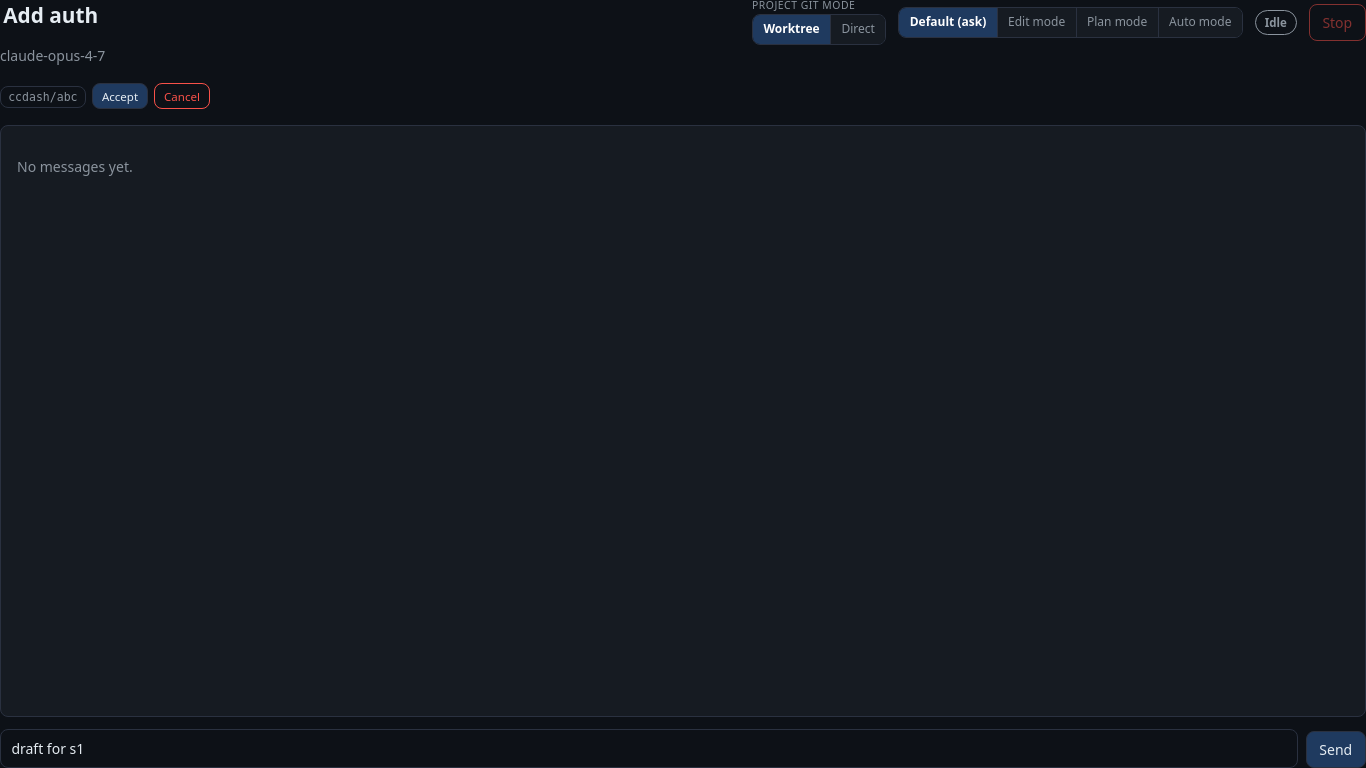
it: SessionView preview flow › Accept opens a confirm modal and POSTs accept
Click the button "Accept": (120, 96) 92,83 -> 148,109
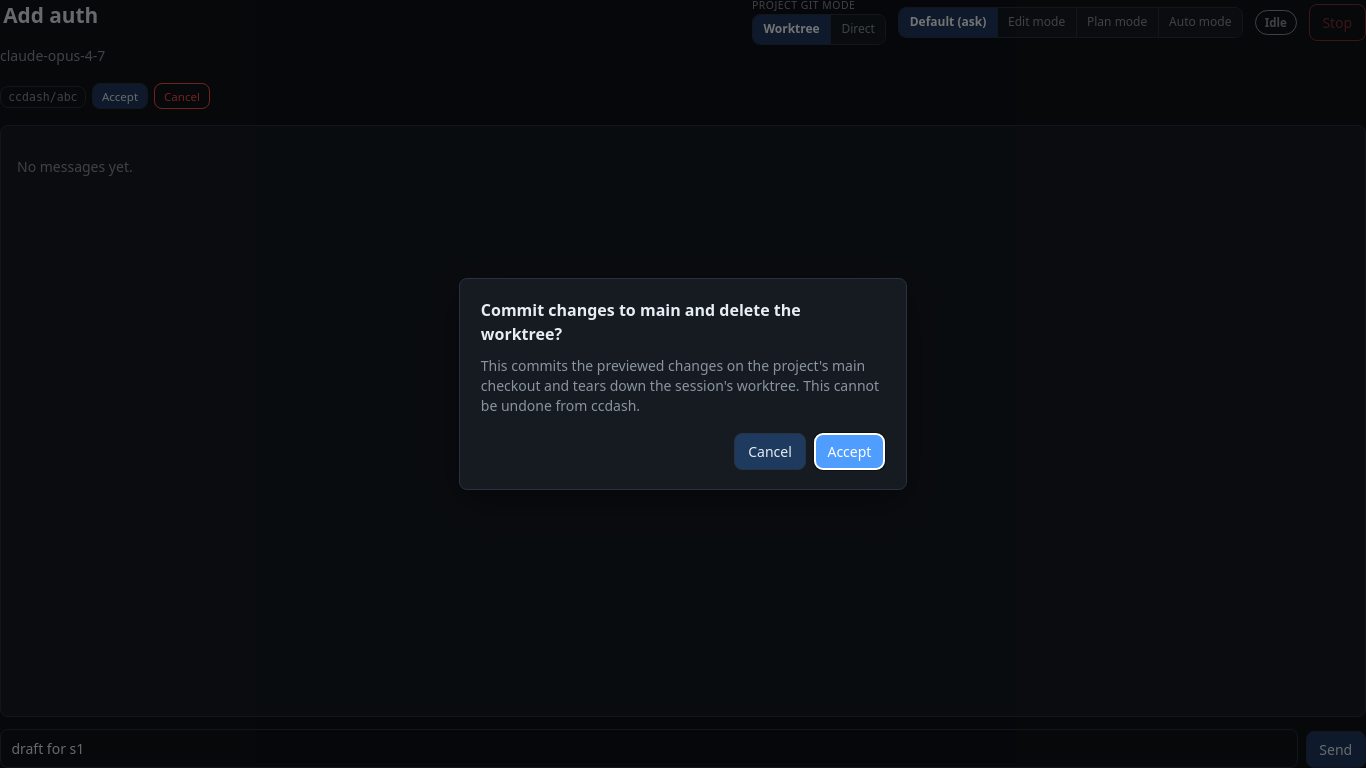
Click the button "Accept": (849, 451) 814,432 -> 885,470
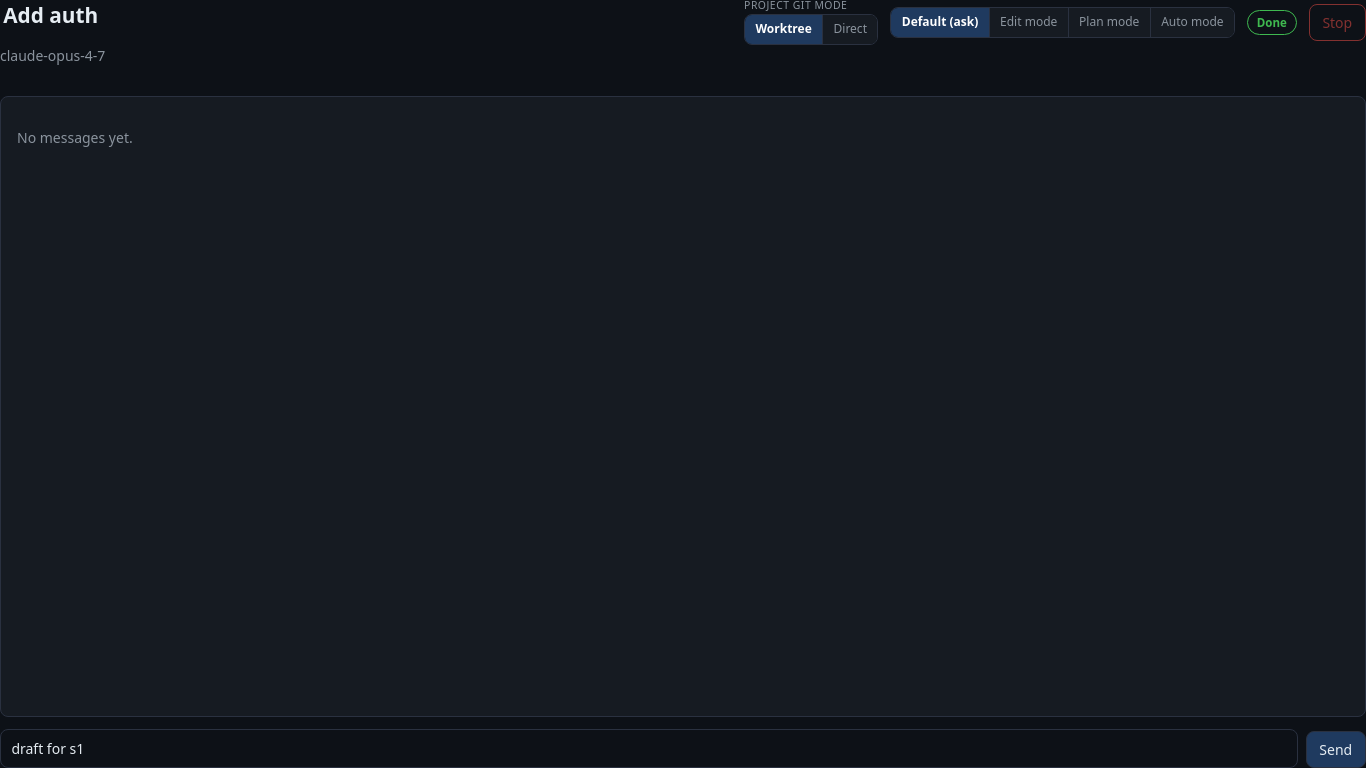
Check: the button "Cancel" is gone
